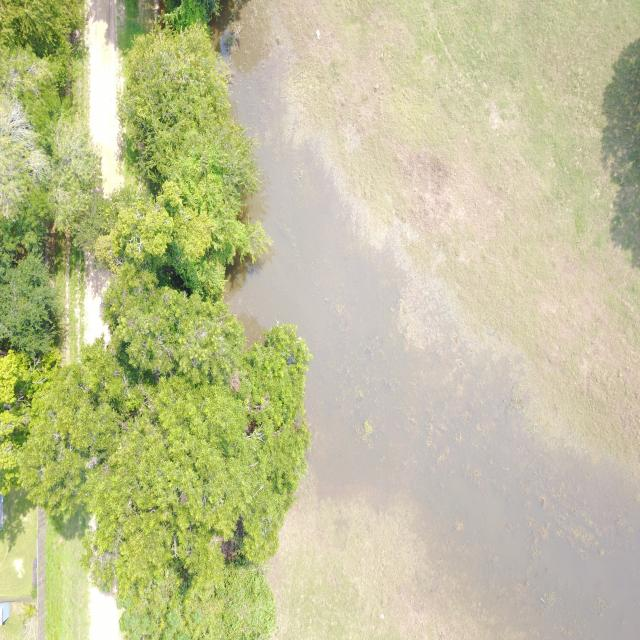fire: (229, 52, 640, 639)
